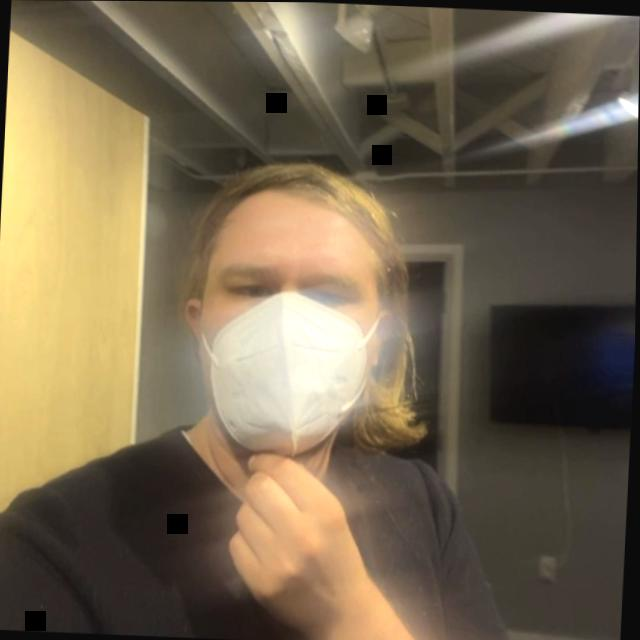Mask: (163, 150, 427, 482)
